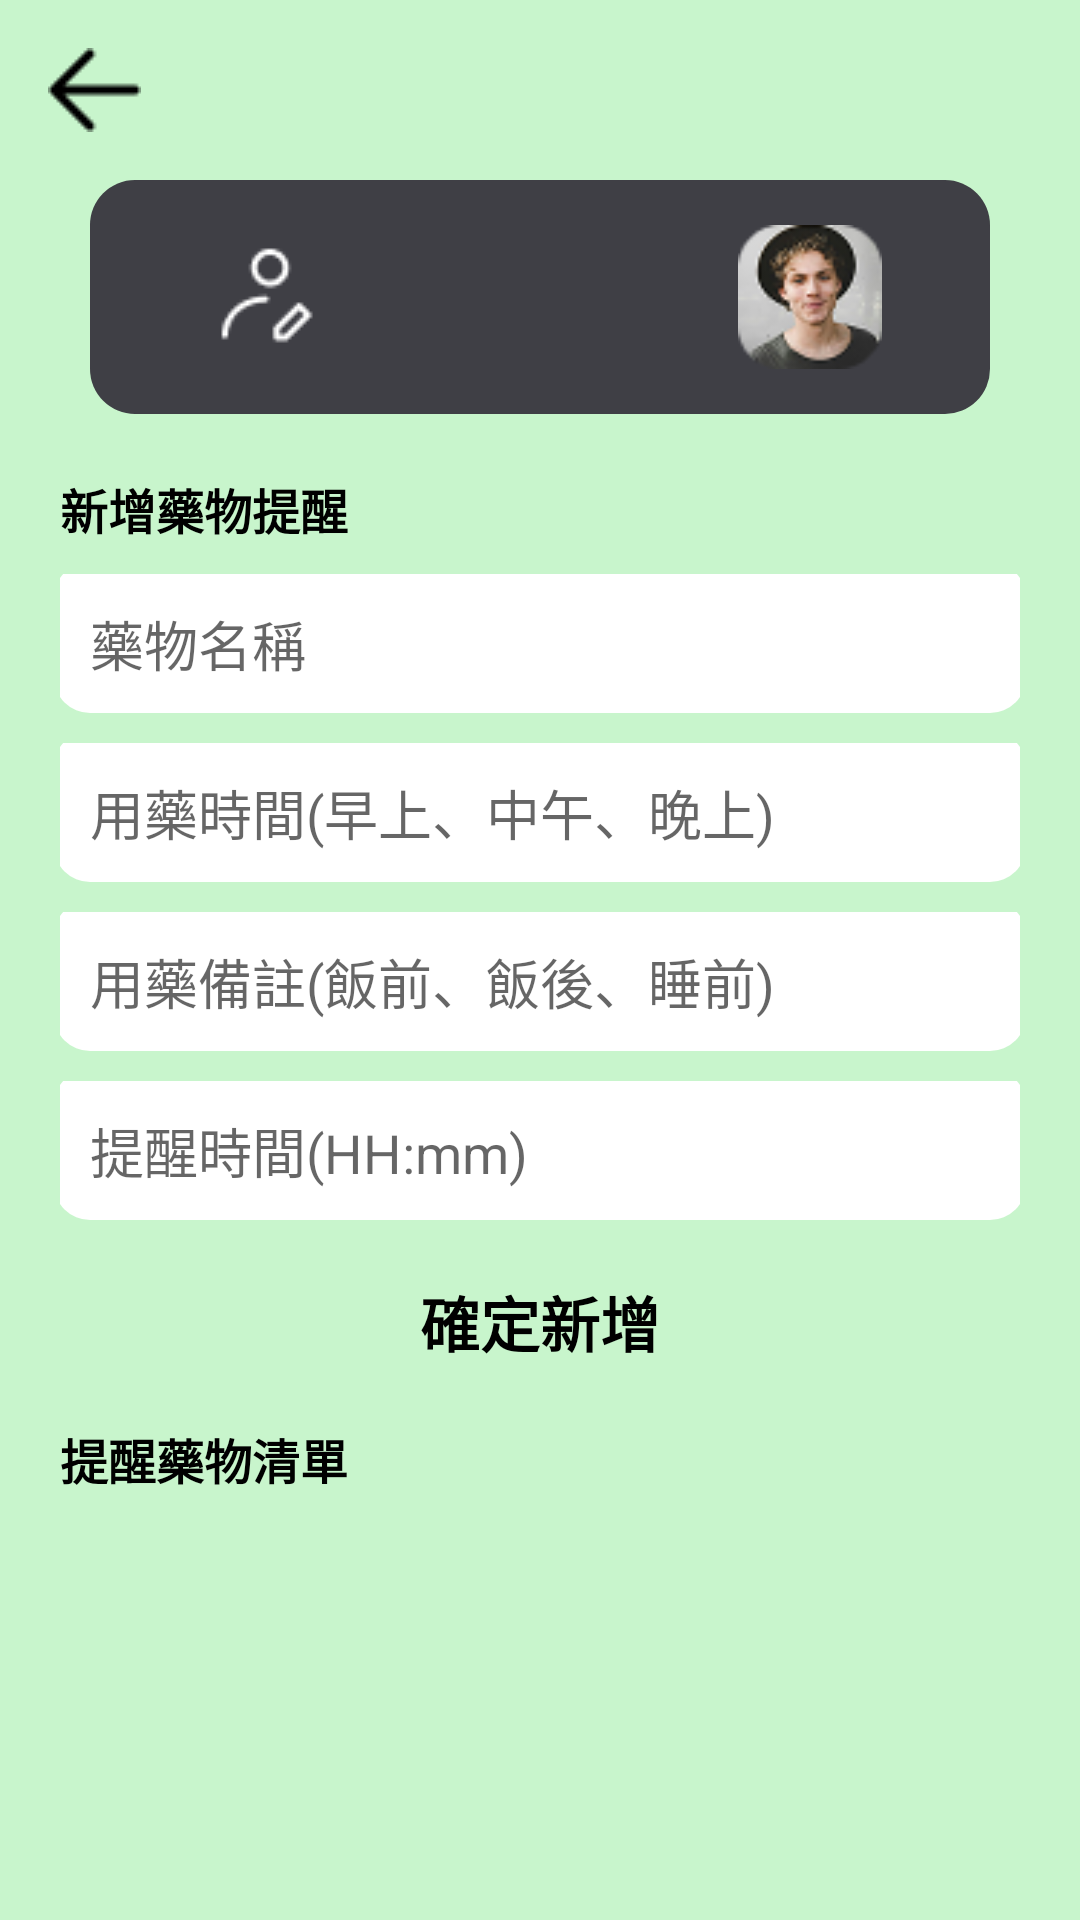

Icon click points for this 1080 x 1920 phone screenshot, format (x=x, y=y):
back: (x=94, y=90)
user photo: (x=810, y=297)
